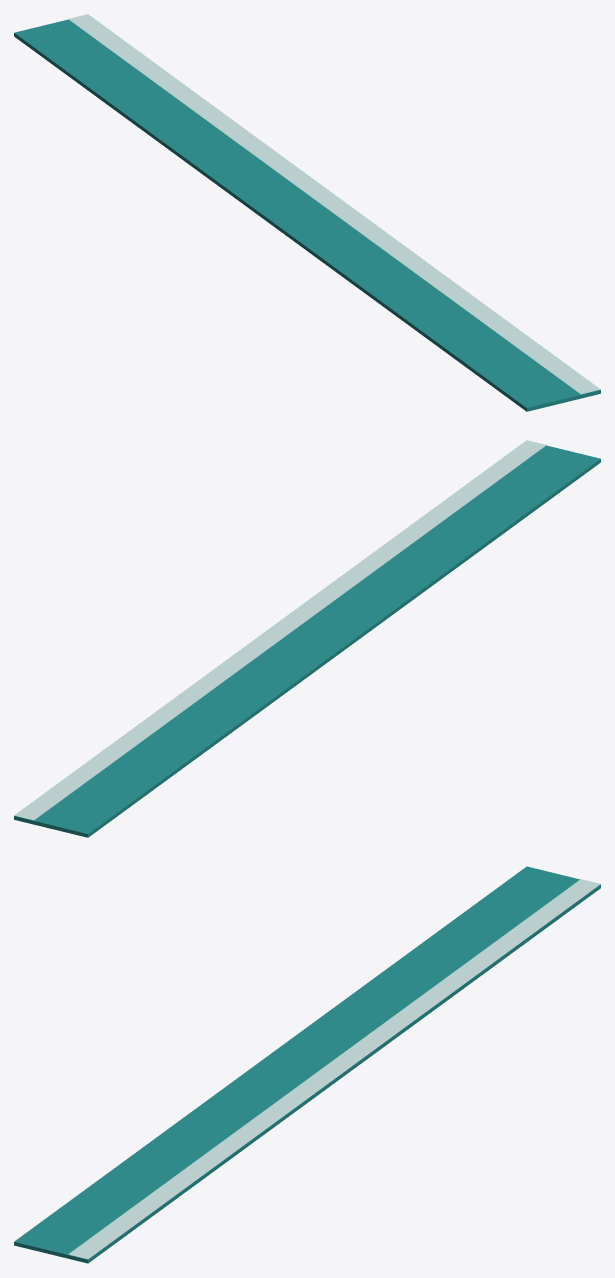
File: SM_Ruler_T.FBX
3 views of the same model, one above another, from view 1: azimuth 30°, elevation 25°; view 2: azimuth 150°, elevation 25°; view 3: azimuth 330°, elevation 25° (orthographic).
Visible parts, largest first — view 1: SM_RulerT; view 2: SM_RulerT; view 3: SM_RulerT.
Boxes of the visible parts, bbox=[...] form: SM_RulerT: bbox=[14, 14, 600, 411]; SM_RulerT: bbox=[14, 440, 600, 837]; SM_RulerT: bbox=[14, 866, 600, 1263].
Size of what is drawn, in the model's own units: 36.29 by 1.98 by 435.
